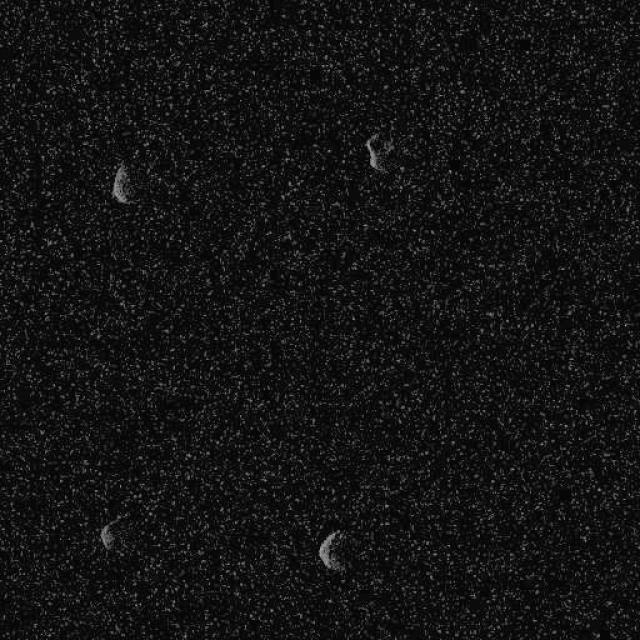D2: (316, 528, 346, 572), (364, 131, 394, 174), (98, 512, 124, 552), (110, 160, 132, 204)
